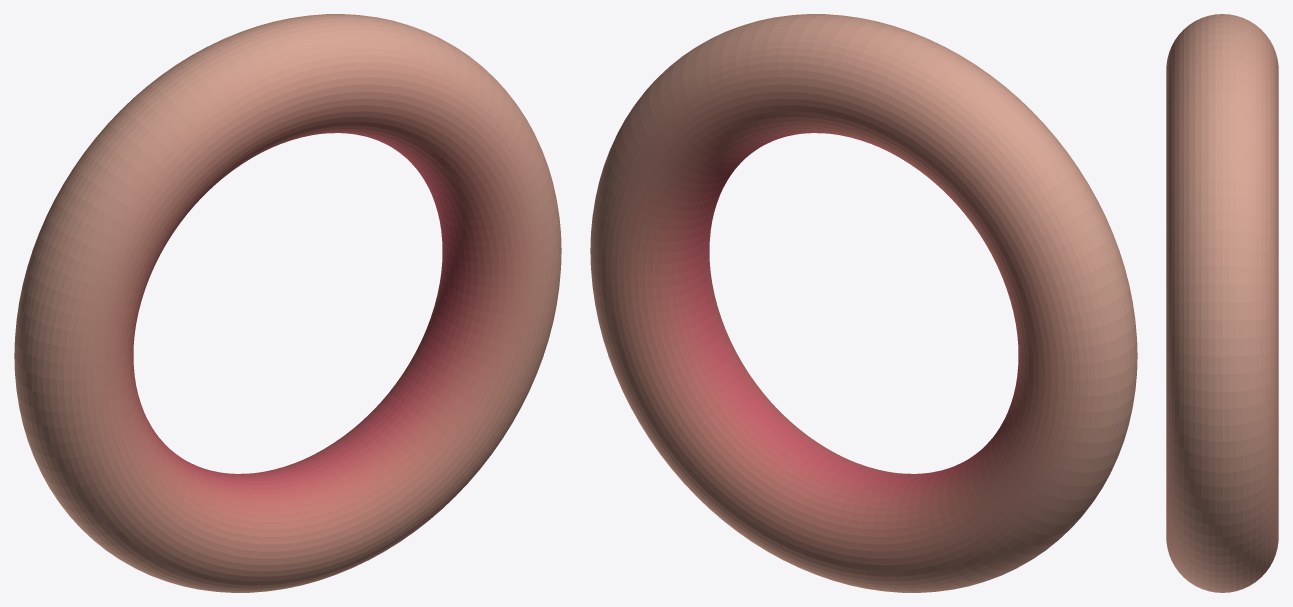
The picture shows the model from 3 angles, left to right: view 1: azimuth 30°, elevation 25°; view 2: azimuth 150°, elevation 25°; view 3: azimuth 270°, elevation 25°; orthographic projection. The views are drawn at different scales.
Parts seen in each view (by area): view 1: world; view 2: world; view 3: world.
Boxes of the visible parts, x1,y1,x2,y2 form: world: (14, 14, 561, 592); world: (590, 14, 1137, 592); world: (1166, 14, 1278, 592).
Bounding box in the file's own units: 32.27 × 32.27 × 6.25.
